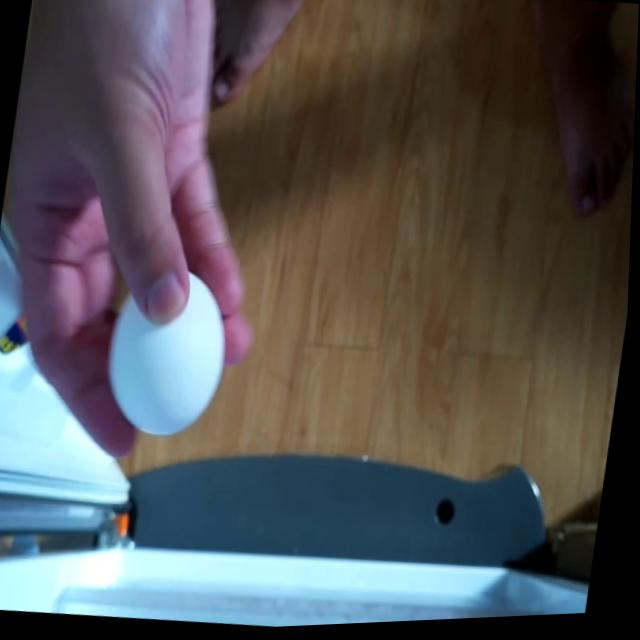egg: (94, 268, 241, 451)
